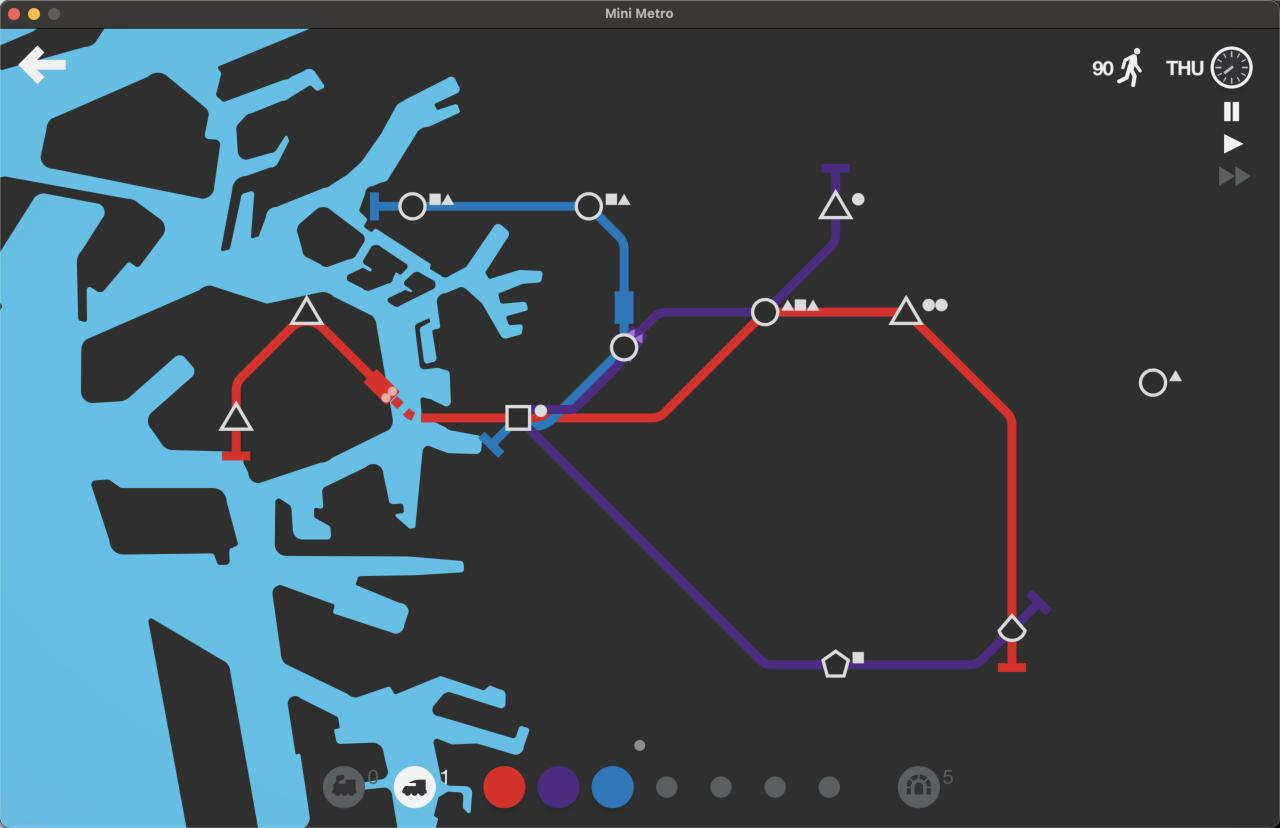CIRCLE: (609, 333, 639, 363), (574, 191, 604, 221), (397, 191, 426, 221), (750, 297, 779, 327), (1138, 368, 1168, 397)
PENTAGON: (820, 649, 851, 680)
SQUARE: (505, 404, 531, 432)
TRIANGLE: (888, 294, 925, 326), (818, 189, 854, 221), (288, 294, 324, 326), (218, 402, 253, 433)
WEDGE: (996, 613, 1028, 643)
